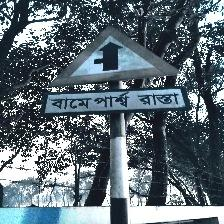Side-road-left: (41, 26, 190, 117)
